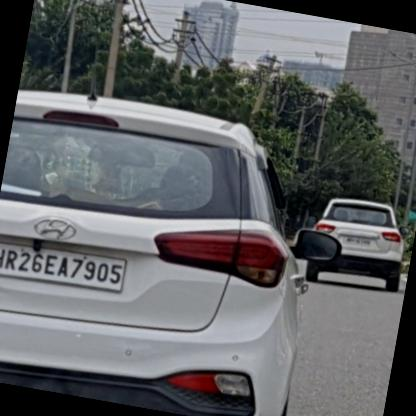car: (0, 78, 367, 415), (302, 191, 415, 297)
